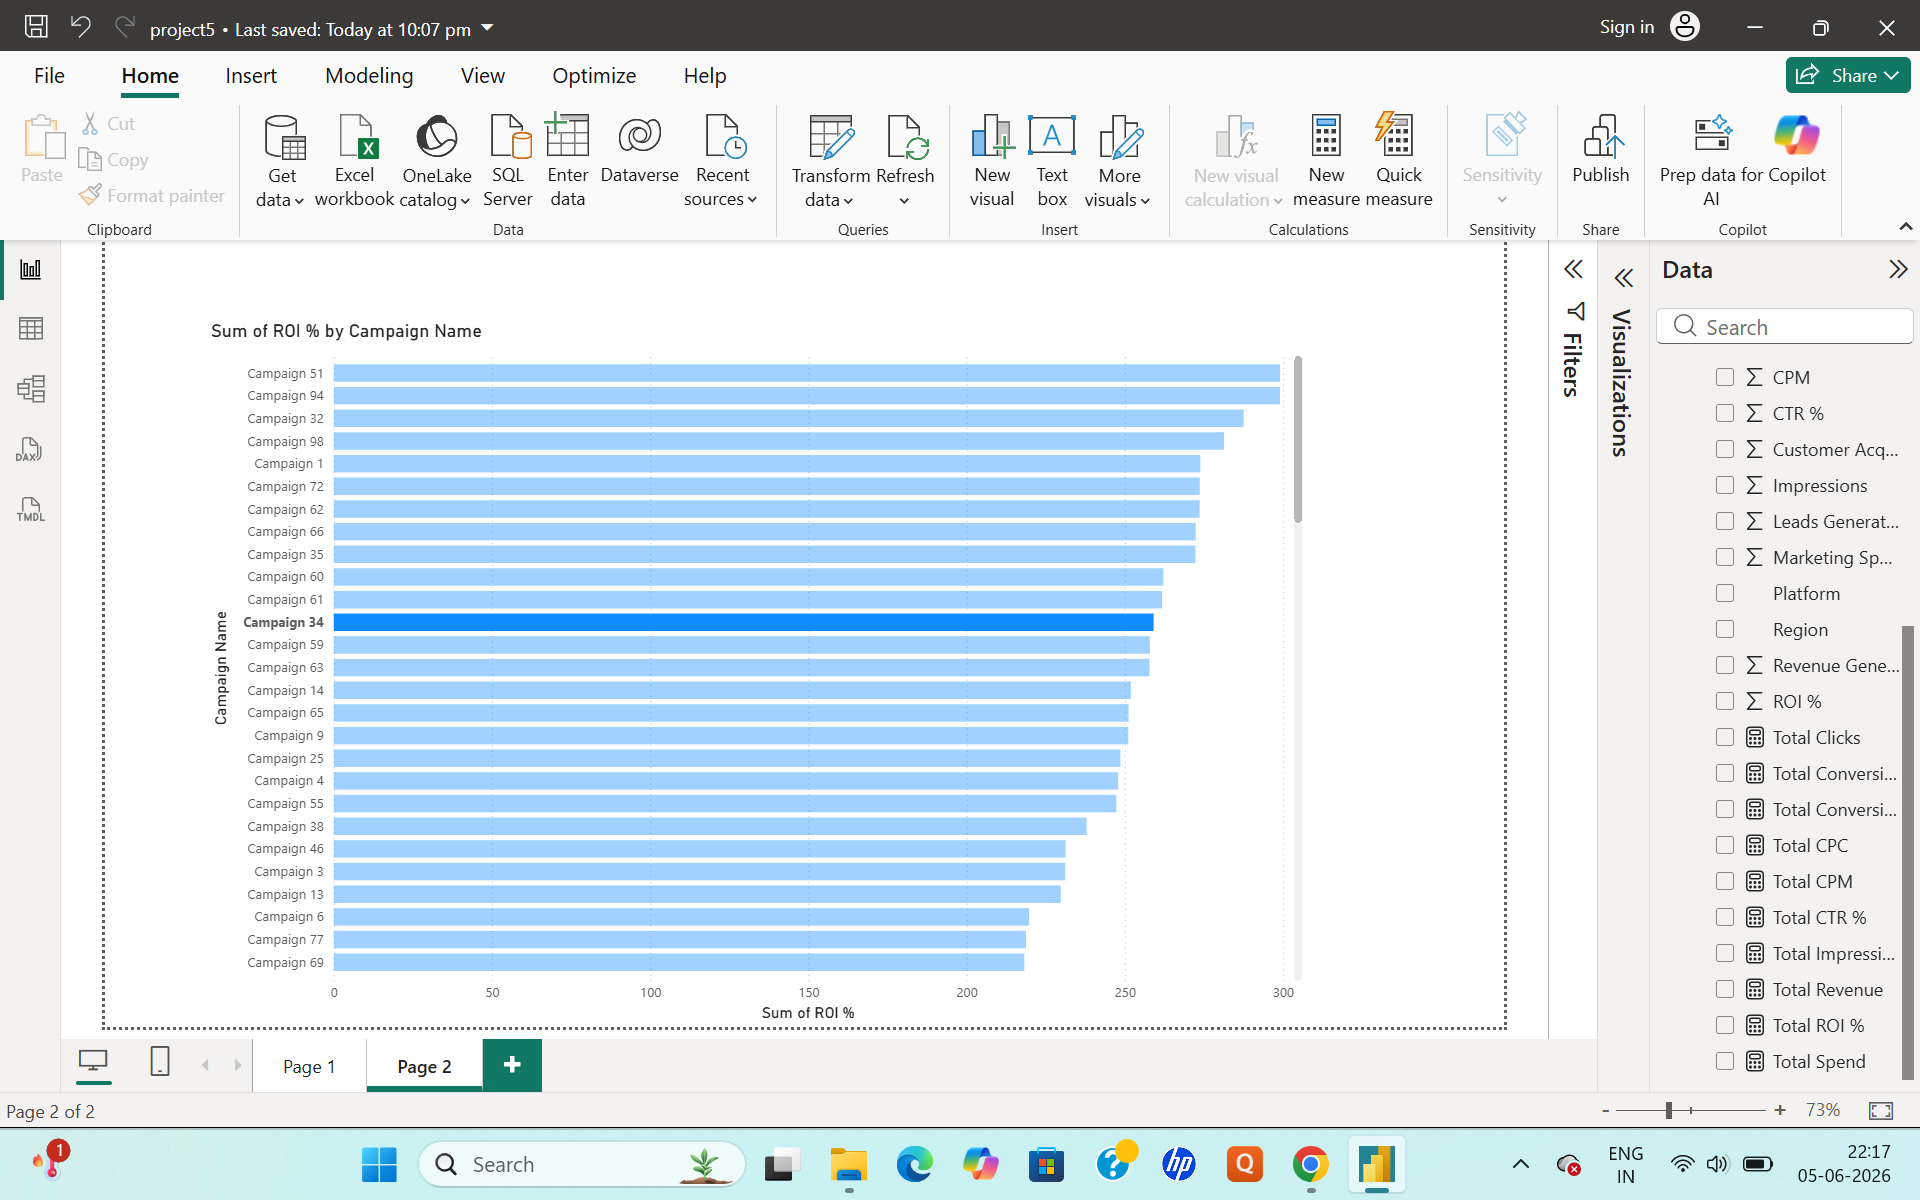

This screenshot's page, from the dashboard's own definition file:
{"tool":"powerbi","page":{"name":"Page 2","canvas":[1280,720],"ordinal":1},"visuals":[{"type":"clusteredBarChart","fields":{"Category":["Marketing_Campaign_Cleaned.Campaign Name"],"Y":["Sum(Marketing_Campaign_Cleaned.ROI %)"]},"box":[92.4,72.7,1008.5,646.6],"z":0}]}

Visuals, with their boxes on the page's 1280x720 design canvas (x1, y1, x2, y2). These are canvas units, not pixel positions in the 1920x1200 screenshot, which may show the page scaled, cropped or inside an application window:
clusteredBarChart - Marketing_Campaign_Cleaned.Campaign Name x Sum(Marketing_Campaign_Cleaned.ROI %): detection(92, 73, 1101, 719)
